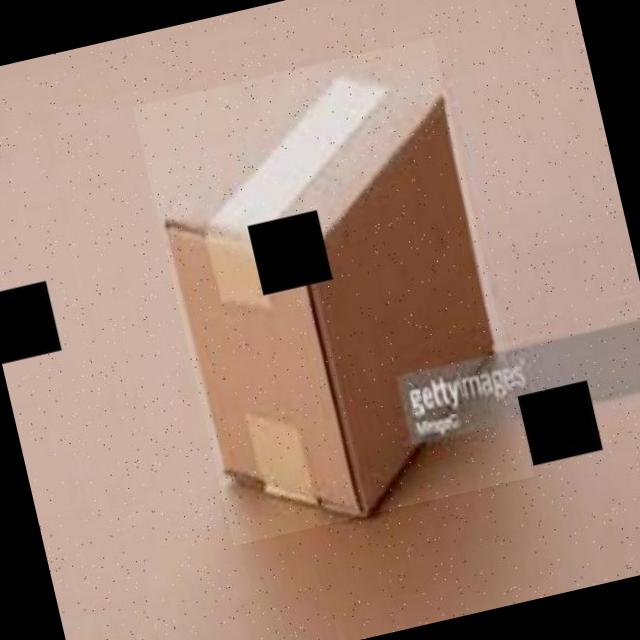box: (132, 37, 534, 546)
